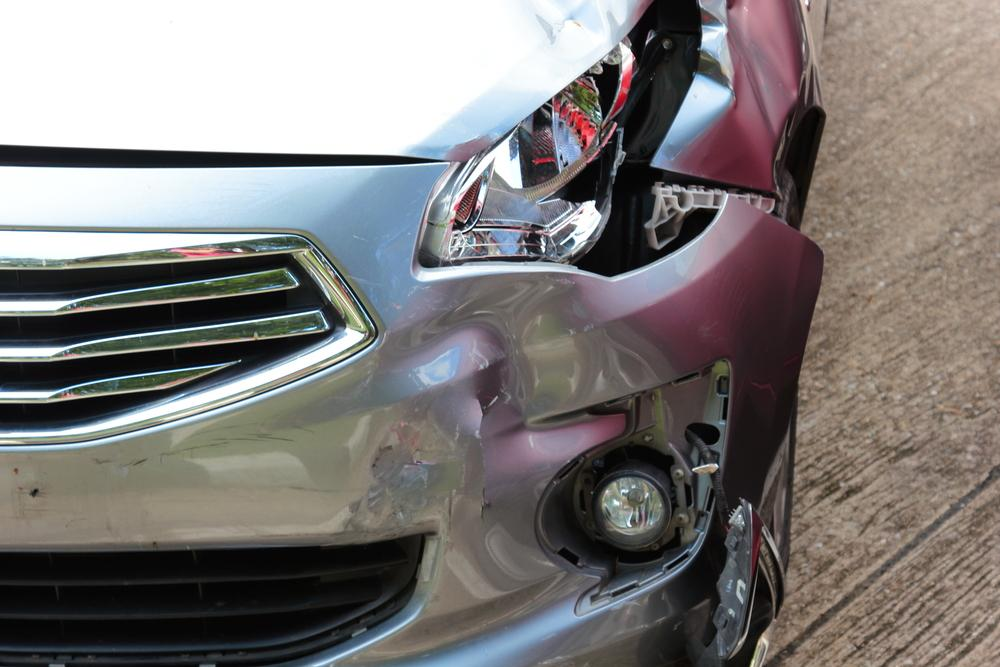dent: (358, 276, 641, 616), (672, 0, 800, 182), (524, 0, 654, 50)
lamp broken: (438, 43, 642, 265)
